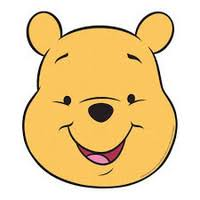Winnie: (8, 5, 191, 191)
